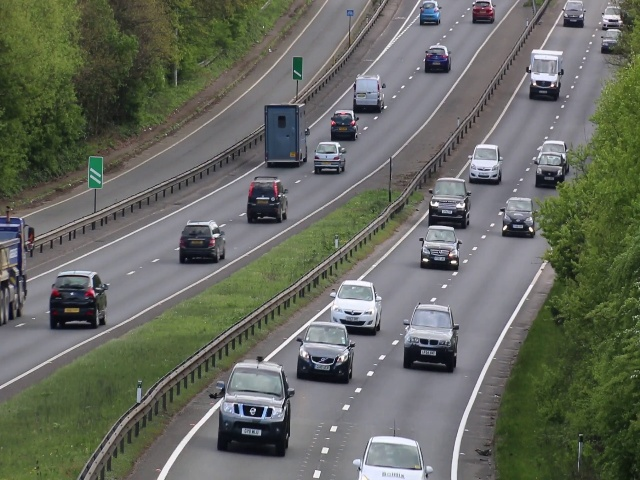car: (216, 359, 290, 456), (1, 213, 34, 330), (402, 305, 460, 369), (298, 321, 352, 383), (50, 270, 109, 326), (357, 436, 430, 480), (261, 101, 309, 166), (332, 281, 384, 327), (244, 174, 291, 224), (177, 218, 225, 263), (428, 178, 470, 228), (418, 226, 461, 270), (528, 54, 560, 103), (351, 75, 386, 113), (313, 139, 346, 175), (503, 198, 533, 237), (471, 144, 499, 185), (329, 109, 360, 142), (536, 154, 563, 187), (423, 45, 453, 74), (562, 1, 586, 29), (470, 1, 495, 25), (419, 1, 440, 23), (603, 6, 621, 29), (601, 30, 616, 53)
